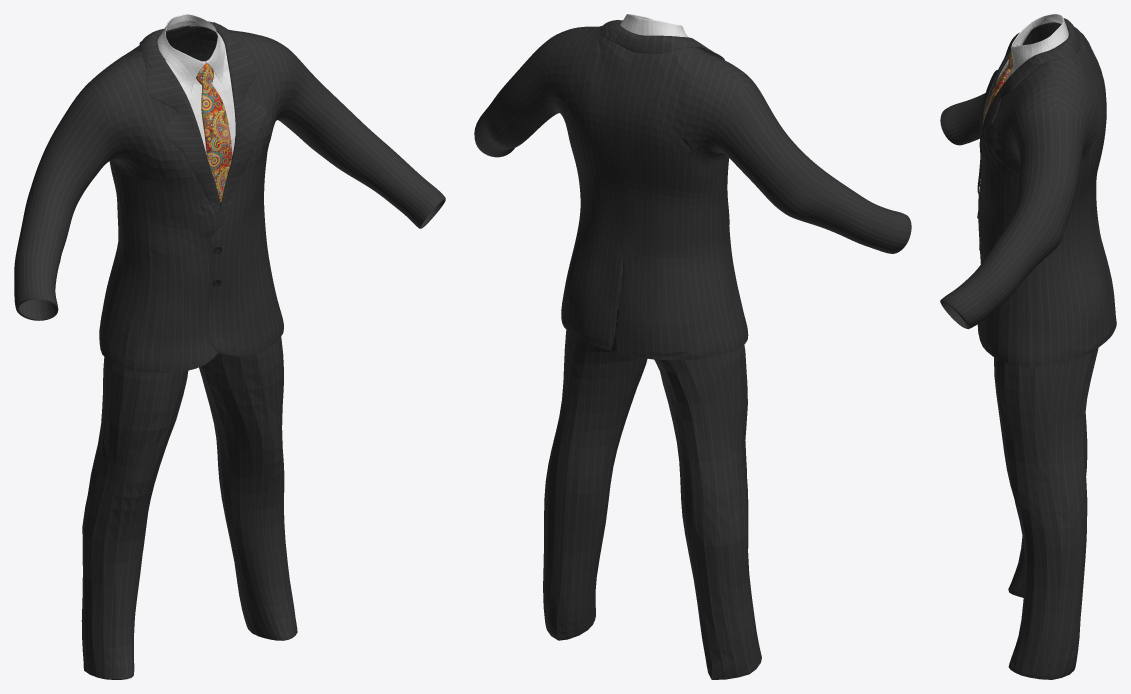
Rendered from ClassicBlackSuit.obj.
3 renders of one model, left to right at view 1: azimuth 30°, elevation 25°; view 2: azimuth 150°, elevation 25°; view 3: azimuth 270°, elevation 25°, orthographic. The views are drawn at different scales.
Parts seen in each view (by area): view 1: ClassicBlackSuit; view 2: ClassicBlackSuit; view 3: ClassicBlackSuit.
Boxes of the visible parts, x1=… form: ClassicBlackSuit: x1=14, y1=14, x2=445, y2=679; ClassicBlackSuit: x1=474, y1=14, x2=911, y2=679; ClassicBlackSuit: x1=940, y1=14, x2=1116, y2=679.
Size of the model in its own units: 1.03 by 1.45 by 0.378.
1 material, 1 textured.
